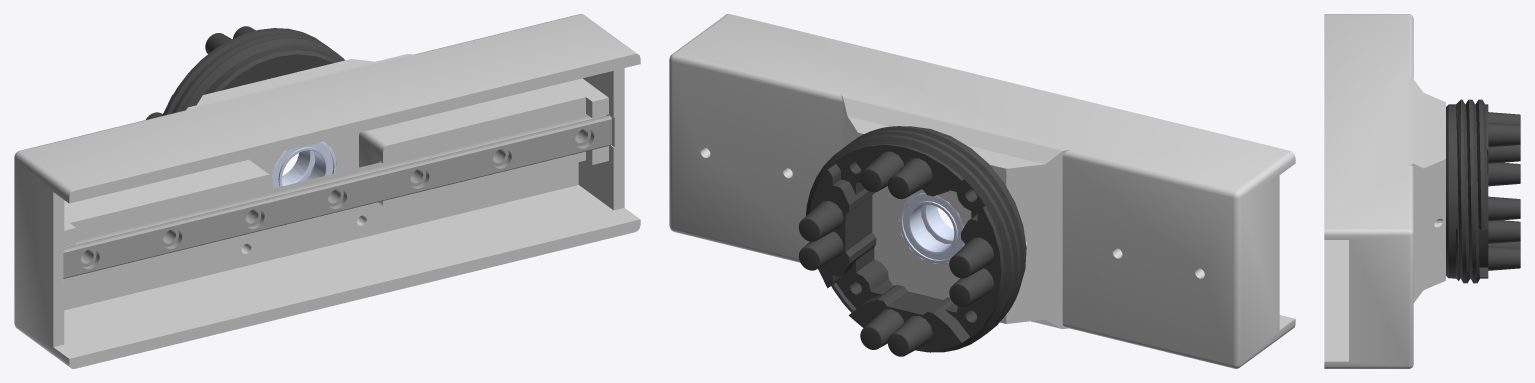
3 views of the same model, side by side, from view 1: azimuth 30°, elevation 25°; view 2: azimuth 150°, elevation 25°; view 3: azimuth 270°, elevation 25° (orthographic). The views are drawn at different scales.
Parts seen in each view (by area): view 1: node4, node2, node3, node1, node0; view 2: node4, node3, node0, node1; view 3: node4, node3.
Boxes of the visible parts, x1,y1,x2,y2 form: node4: (14,14,640,368); node2: (63,114,611,278); node3: (146,26,344,119); node1: (272,141,336,188); node0: (282,150,315,185); node4: (669,14,1295,368); node3: (798,126,1026,356); node0: (899,193,964,263); node1: (921,204,954,243); node4: (1324,14,1445,368); node3: (1446,99,1520,283).
Bounding box in the file's own units: 0.104 × 0.037 × 0.0395.
